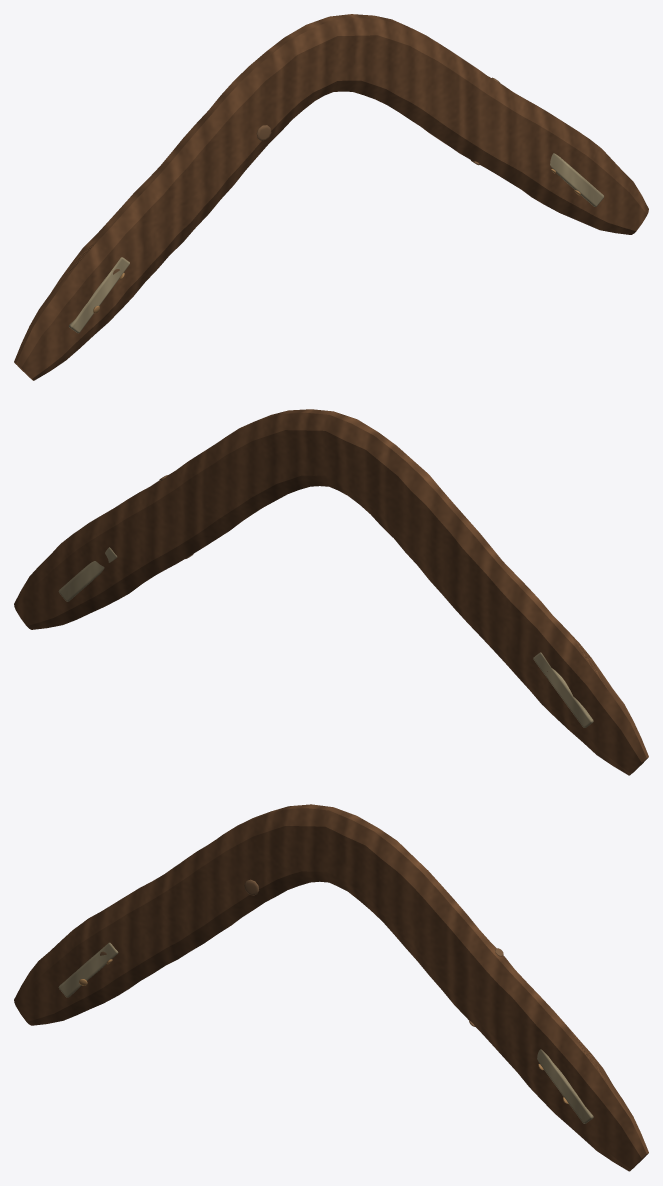
File: boomerang.glb
The picture shows the model from 3 angles, top to bottom: view 1: azimuth 30°, elevation 25°; view 2: azimuth 150°, elevation 25°; view 3: azimuth 330°, elevation 25°; orthographic projection.
Visible parts, largest first — view 1: wood / oiled hardwood, horn / polished horn and bone; view 2: wood / oiled hardwood, horn / polished horn and bone; view 3: wood / oiled hardwood, horn / polished horn and bone.
Part boxes in pixels (left/top/right/bottom): wood / oiled hardwood: left=14, top=14, right=648, bottom=380; horn / polished horn and bone: left=68, top=153, right=604, bottom=333; wood / oiled hardwood: left=14, top=409, right=648, bottom=775; horn / polished horn and bone: left=58, top=547, right=593, bottom=727; wood / oiled hardwood: left=14, top=804, right=648, bottom=1171; horn / polished horn and bone: left=58, top=942, right=593, bottom=1123.
Bounding box in the file's own units: 0.5771 × 0.2522 × 0.0236.
4 materials, 2 textured.
